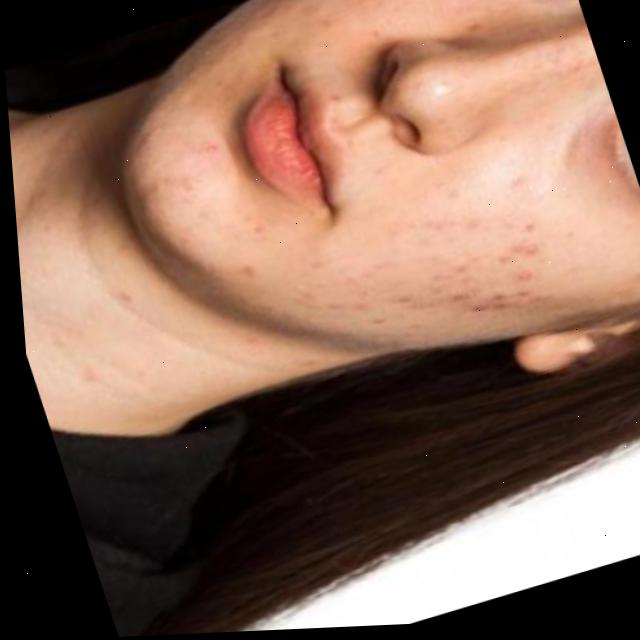Acne: (382, 157, 567, 346), (305, 0, 448, 48)
